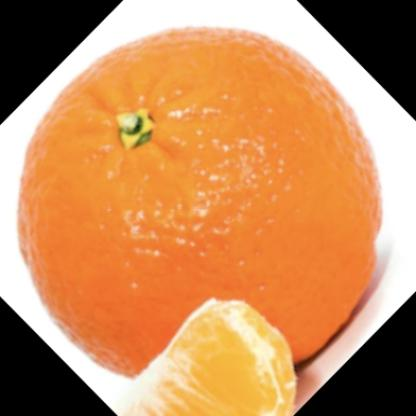fresh: (18, 27, 388, 381)
